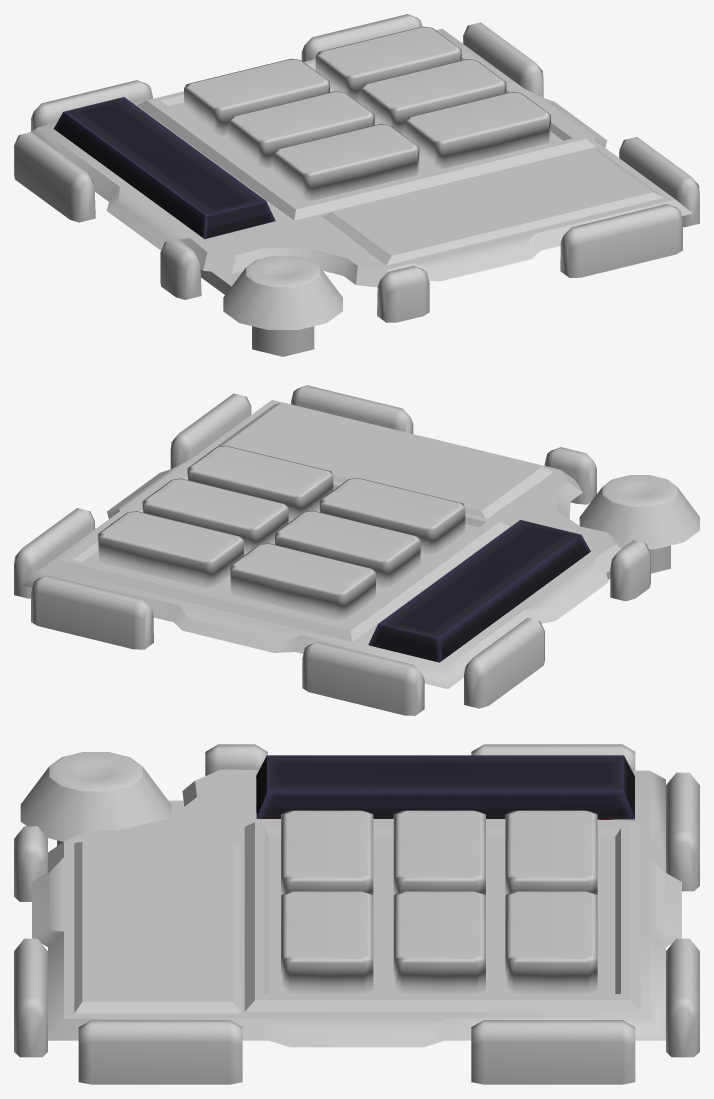
Rendered from WhosOnFirstComponent.fbx.
3 views of the same model, one above another, from view 1: azimuth 30°, elevation 25°; view 2: azimuth 150°, elevation 25°; view 3: azimuth 270°, elevation 25° (orthographic). The views are drawn at different scales.
Visible parts, largest first — view 1: Component_PuzzleBackground, Screen, StatusIndicator, Key_TR, Key_TL, Key_MR, Key_BR, Key_ML, Key_BL; view 2: Component_PuzzleBackground, Screen, StatusIndicator, Key_BR, Key_BL, Key_TR, Key_MR, Key_TL, Key_ML; view 3: Component_PuzzleBackground, Screen, StatusIndicator, Key_ML, Key_TL, Key_BL, Key_TR, Key_MR, Key_BR.
Part boxes in pixels (left/top/right/bottom): Component_PuzzleBackground: left=14, top=14, right=699, bottom=356; Screen: left=137, top=29, right=663, bottom=265; StatusIndicator: left=53, top=97, right=275, bottom=239; Key_TR: left=273, top=124, right=419, bottom=200; Key_TL: left=405, top=92, right=550, bottom=168; Key_MR: left=228, top=91, right=374, bottom=167; Key_BR: left=184, top=58, right=329, bottom=135; Key_ML: left=360, top=59, right=506, bottom=134; Key_BL: left=315, top=26, right=461, bottom=102; Component_PuzzleBackground: left=14, top=385, right=699, bottom=715; Screen: left=50, top=403, right=553, bottom=641; StatusIndicator: left=368, top=520, right=590, bottom=662; Key_BR: left=229, top=543, right=375, bottom=620; Key_BL: left=97, top=511, right=243, bottom=587; Key_TR: left=319, top=478, right=465, bottom=554; Key_MR: left=274, top=510, right=420, bottom=587; Key_TL: left=187, top=445, right=333, bottom=521; Key_ML: left=142, top=478, right=288, bottom=554; Component_PuzzleBackground: left=14, top=744, right=699, bottom=1084; Screen: left=74, top=822, right=640, bottom=1013; StatusIndicator: left=256, top=755, right=634, bottom=820; Key_ML: left=393, top=891, right=485, bottom=993; Key_TL: left=281, top=891, right=373, bottom=993; Key_BL: left=505, top=891, right=597, bottom=993; Key_TR: left=281, top=810, right=373, bottom=894; Key_MR: left=393, top=810, right=485, bottom=894; Key_BR: left=505, top=810, right=597, bottom=894.
Bounding box in the file's own units: 0.2 × 0.0356 × 0.2.
